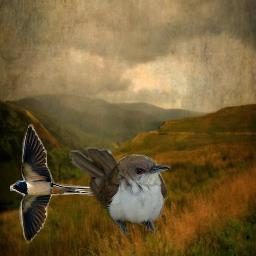Cuckoo: (69, 147, 171, 238)
Swallow: (10, 124, 98, 244)
